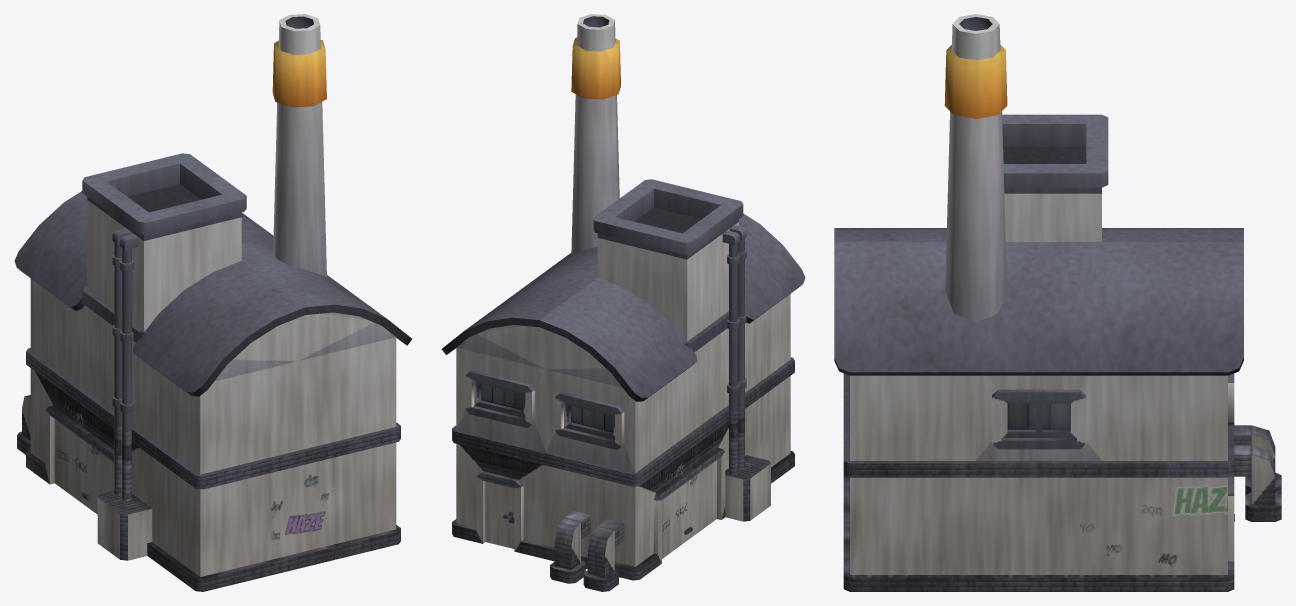
The model's file is building-n-white-scuffed.glb.
The picture shows the model from 3 angles, left to right: view 1: azimuth 30°, elevation 25°; view 2: azimuth 150°, elevation 25°; view 3: azimuth 270°, elevation 25°; orthographic projection. The views are drawn at different scales.
Parts seen in each view (by area): view 1: building-n; view 2: building-n; view 3: building-n.
Boxes of the visible parts, bbox=[...] form: building-n: bbox=[14, 14, 411, 591]; building-n: bbox=[441, 14, 805, 591]; building-n: bbox=[834, 14, 1281, 591].
Bounding box in the file's own units: 0.9766 × 1.9 × 1.42.
1 material, 1 textured.
